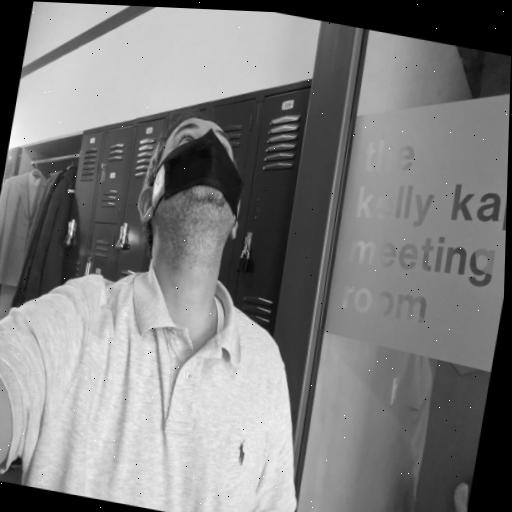mask: (145, 110, 250, 231)
